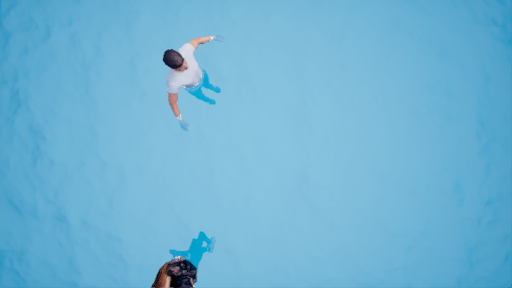person: (153, 31, 233, 138), (145, 223, 221, 288)
